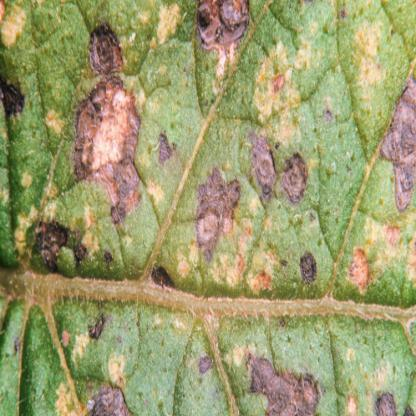Potato leaf early blight: (1, 2, 412, 415)
